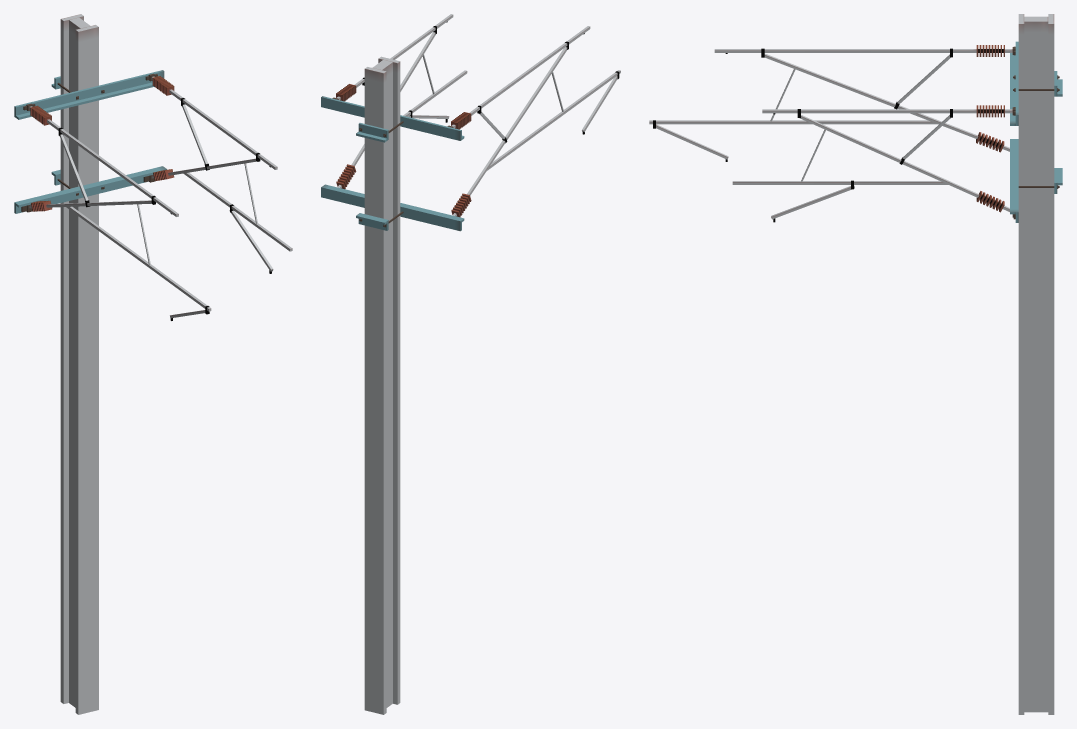
Rendered from catenary_double_r_a.obj.
3 renders of one model, left to right at view 1: azimuth 30°, elevation 25°; view 2: azimuth 150°, elevation 25°; view 3: azimuth 270°, elevation 25°, orthographic. The views are drawn at different scales.
Visible parts, largest first — view 1: catenary; view 2: catenary; view 3: catenary.
Boxes of the visible parts, bbox=[...] form: catenary: bbox=[14, 14, 292, 714]; catenary: bbox=[321, 14, 620, 714]; catenary: bbox=[649, 14, 1062, 714].
Size of the model in its own units: 1.82 by 8 by 4.34.
1 material, 1 textured.
